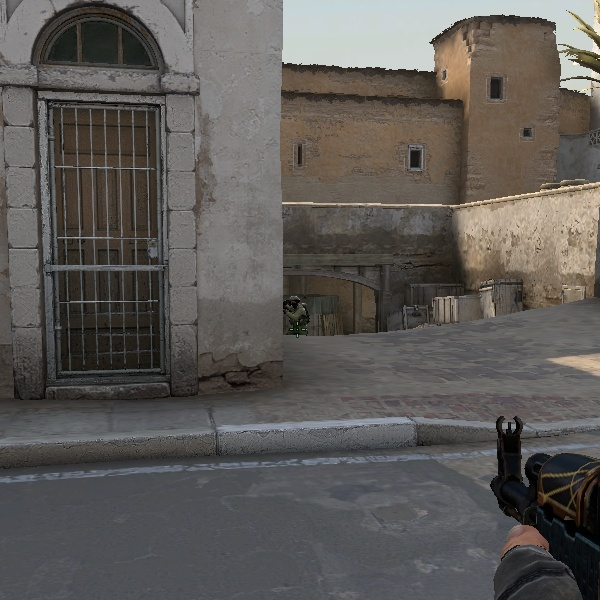ct_body: (282, 295, 310, 336)
ct_head: (289, 296, 300, 310)
